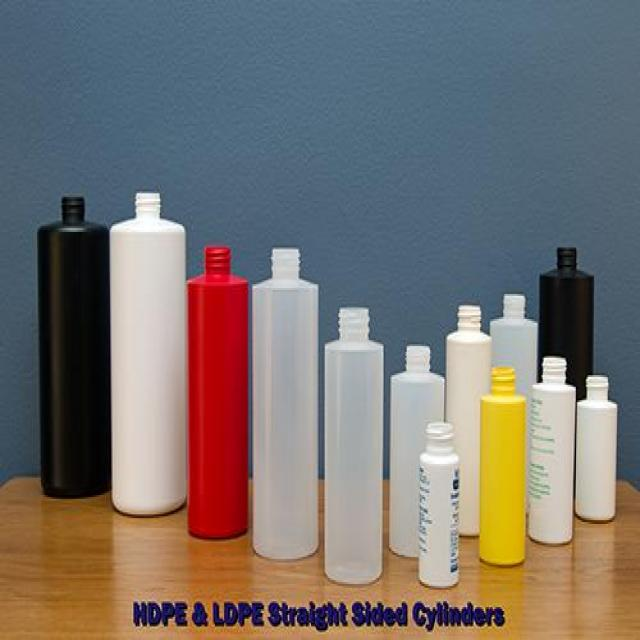plastic_bottle: (100, 182, 209, 524), (243, 234, 335, 578), (475, 371, 541, 596), (391, 343, 455, 573), (415, 419, 475, 608), (577, 371, 623, 536)
